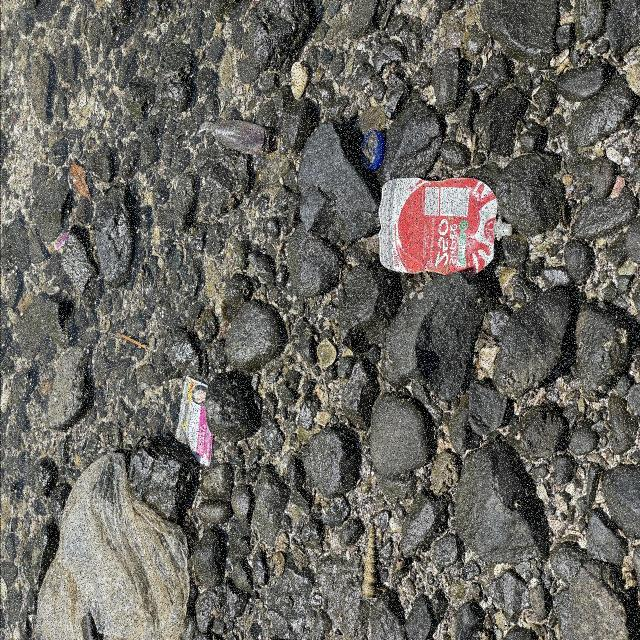plastic_waste: (379, 178, 513, 278), (175, 376, 214, 468), (199, 118, 270, 158), (361, 130, 387, 173)
